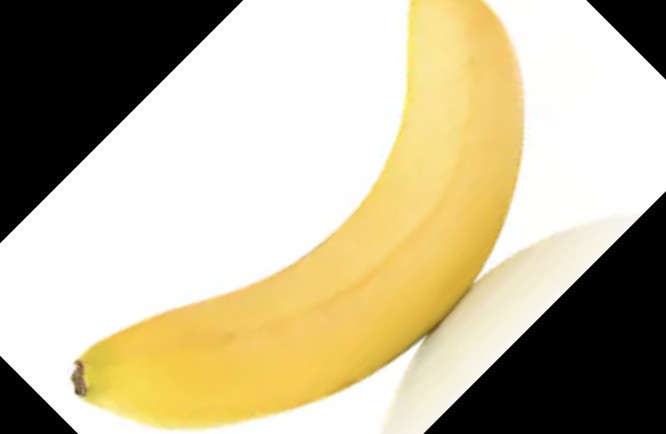fresh_banana: (72, 1, 526, 431)
